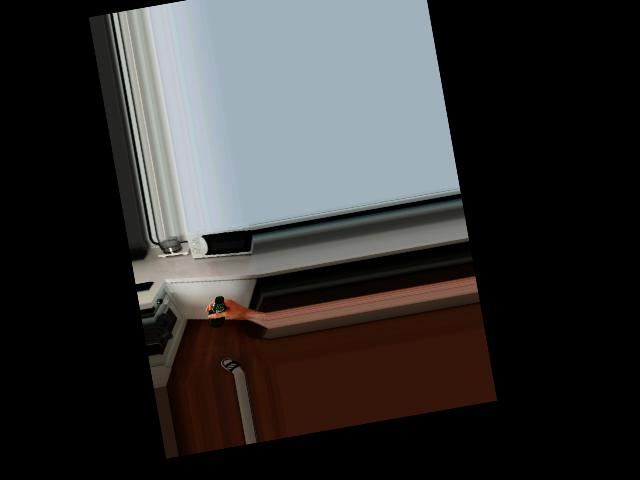beer: (204, 295, 229, 329)
